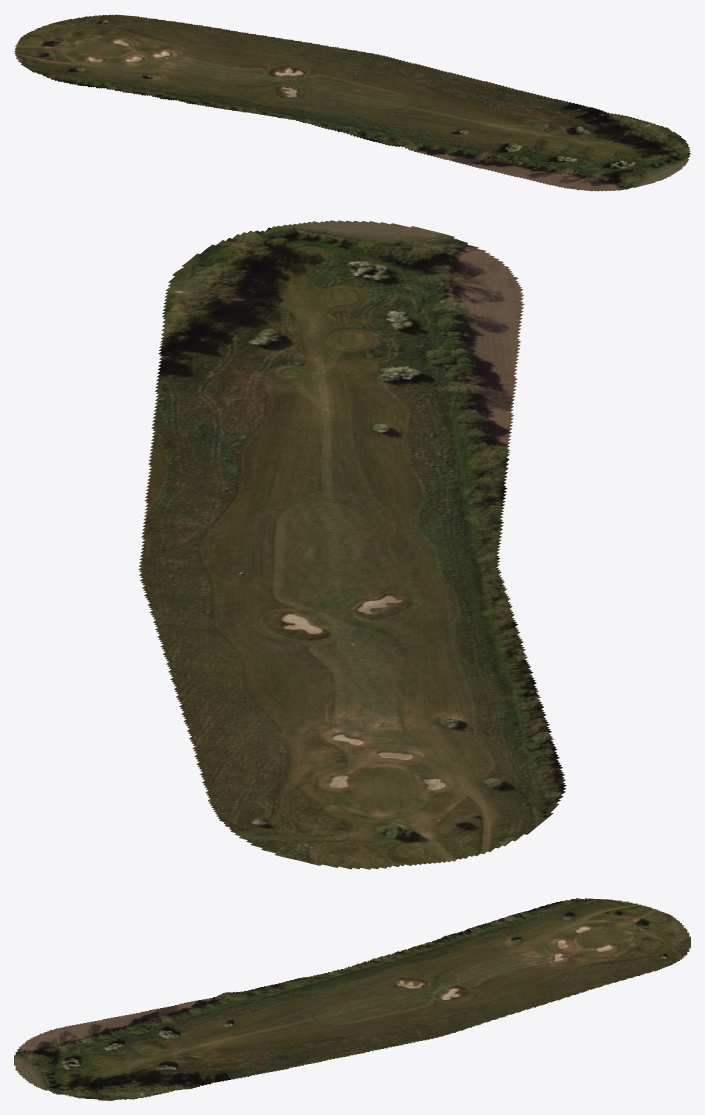
The model's file is elisefarm_15.glb.
3 renders of one model, top to bottom at view 1: azimuth 30°, elevation 25°; view 2: azimuth 150°, elevation 25°; view 3: azimuth 270°, elevation 25°, orthographic. The views are drawn at different scales.
Parts seen in each view (by area): view 1: ground; view 2: ground; view 3: ground.
Part boxes in pixels (x1,y1,x2,y2): ground: (14,14,690,191); ground: (138,220,566,869); ground: (14,898,690,1100).
Bounding box in the file's own units: 271 × 8.16 × 371.
1 material, 1 textured.
